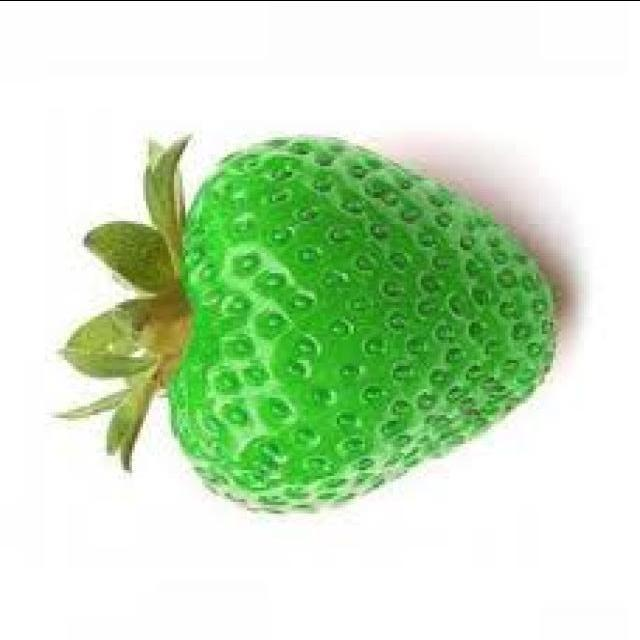strawberry: (166, 132, 564, 514)
